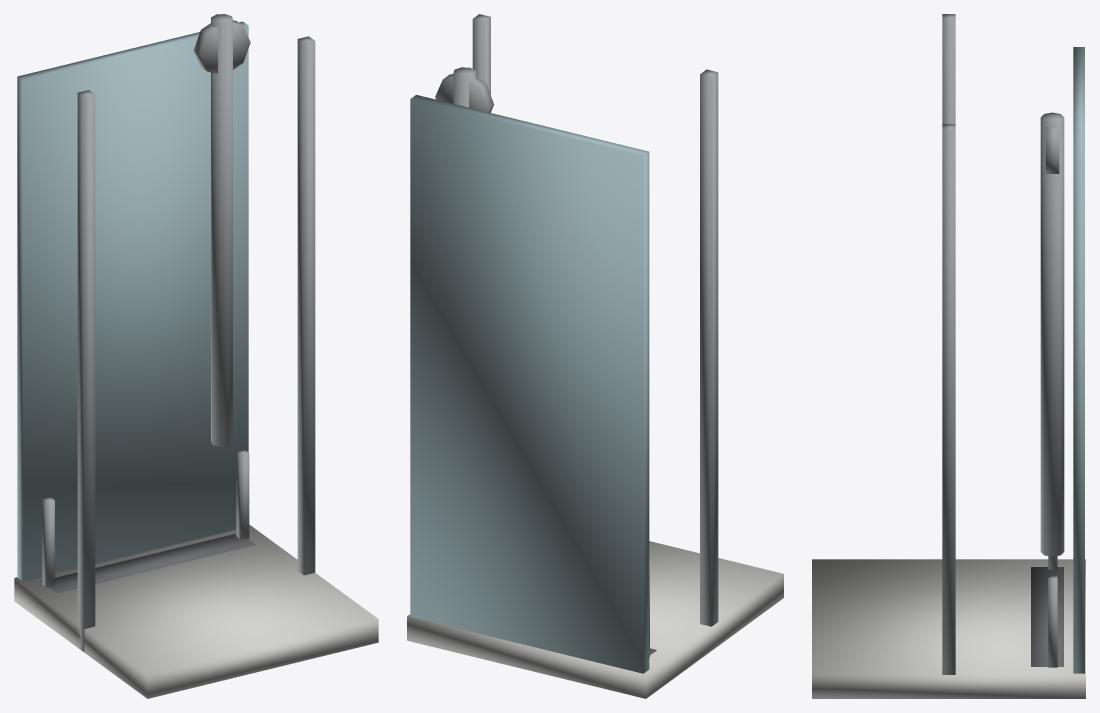
File: shower_stall__reinforced.glb
The picture shows the model from 3 angles, left to right: view 1: azimuth 30°, elevation 25°; view 2: azimuth 150°, elevation 25°; view 3: azimuth 270°, elevation 25°; orthographic projection. The views are drawn at different scales.
Parts seen in each view (by area): view 1: world; view 2: world; view 3: world.
Part boxes in pixels (left/top/right/bottom): world: left=14, top=14, right=378, bottom=698; world: left=407, top=14, right=783, bottom=698; world: left=812, top=14, right=1085, bottom=698.
Bounding box in the file's own units: 0.8446 × 1.94 × 0.8446.
